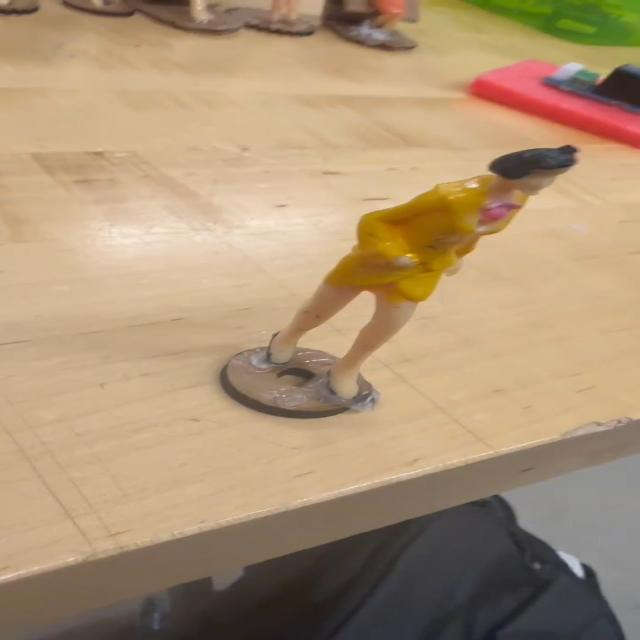Authorized: (260, 130, 595, 426)
